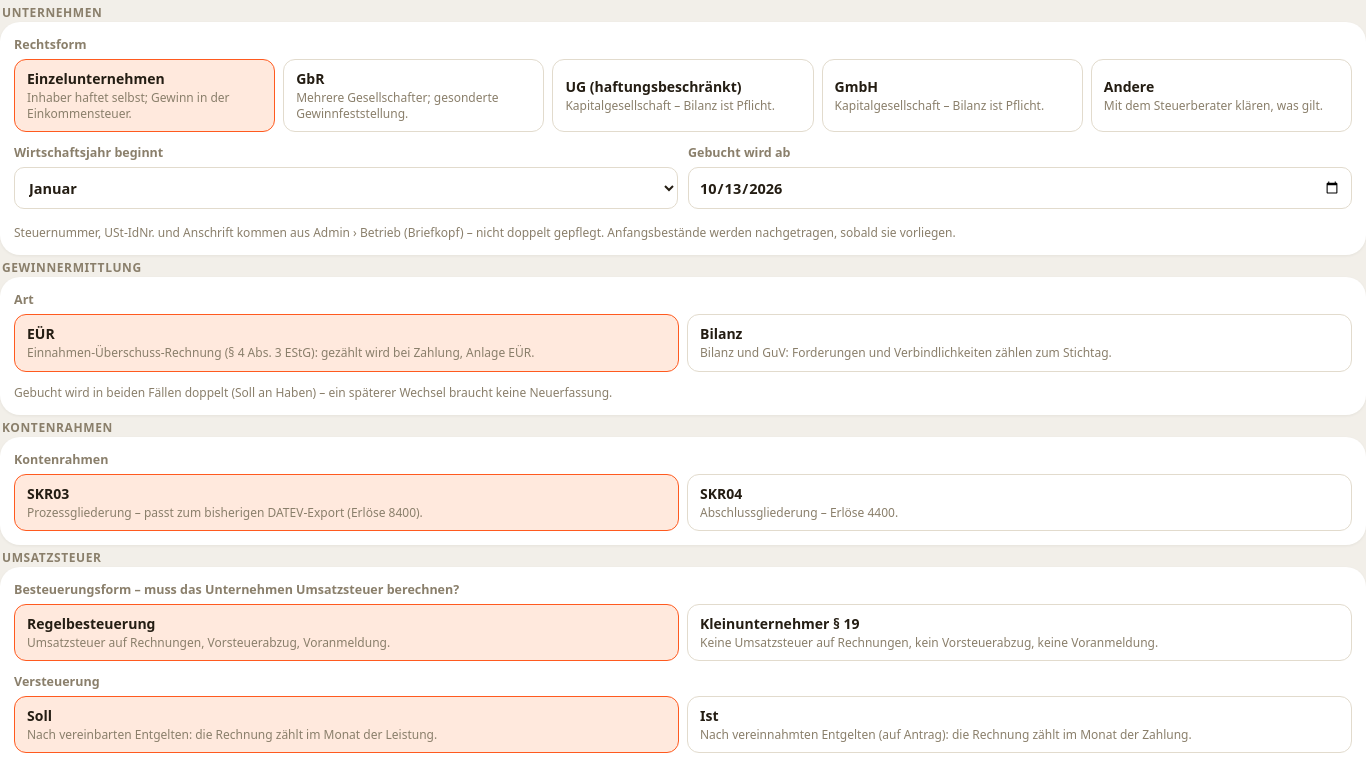
Scenario: FinanceEinstellungen › Kleinunternehmer graut Soll/Ist und Zeitraum aus; GmbH stellt auf Bilanz
Click the radio button labelled "Kleinunternehmer § 19": [1020, 632] box x1=687 y1=604 x2=1352 y2=661
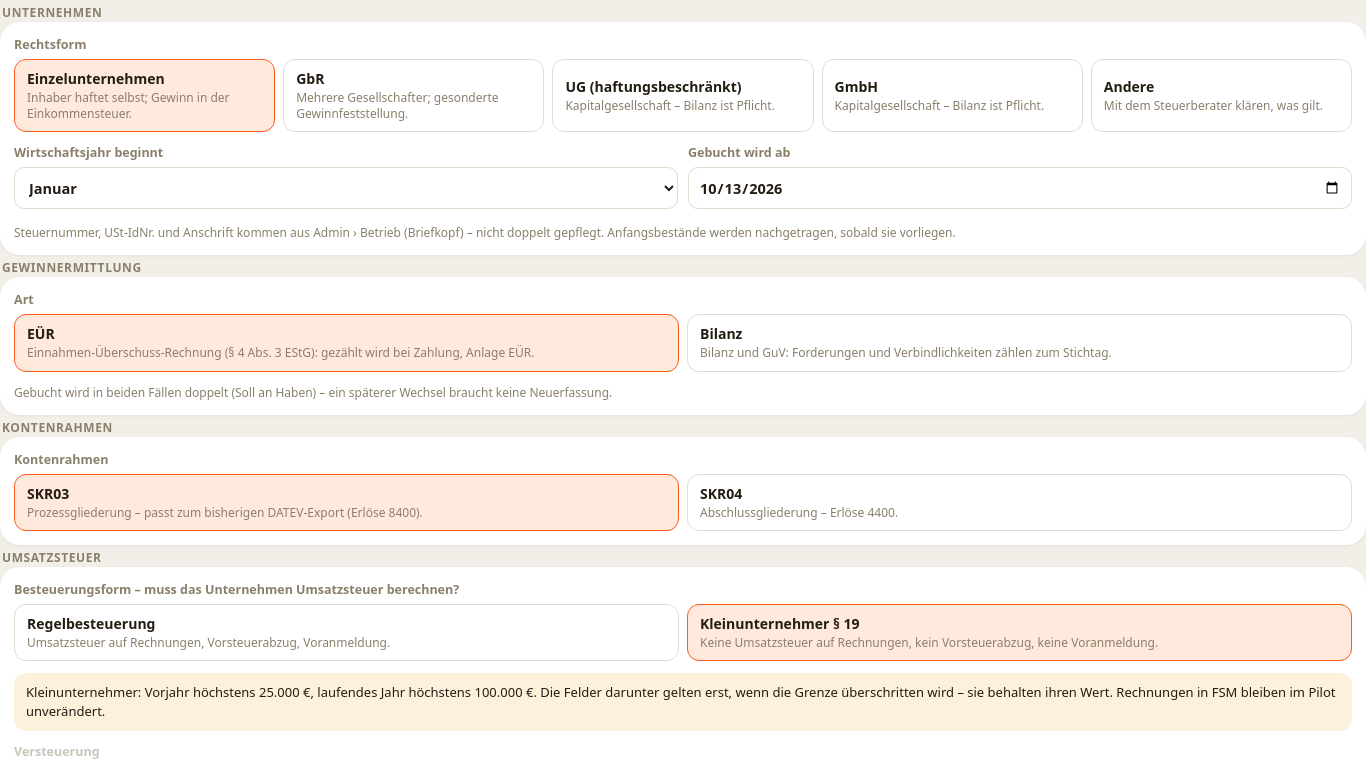
Click the radio button labelled "GmbH Kapitalgesellschaft – Bilanz ist Pflicht.": [952, 96] box x1=822 y1=59 x2=1083 y2=132
(page scrolled)
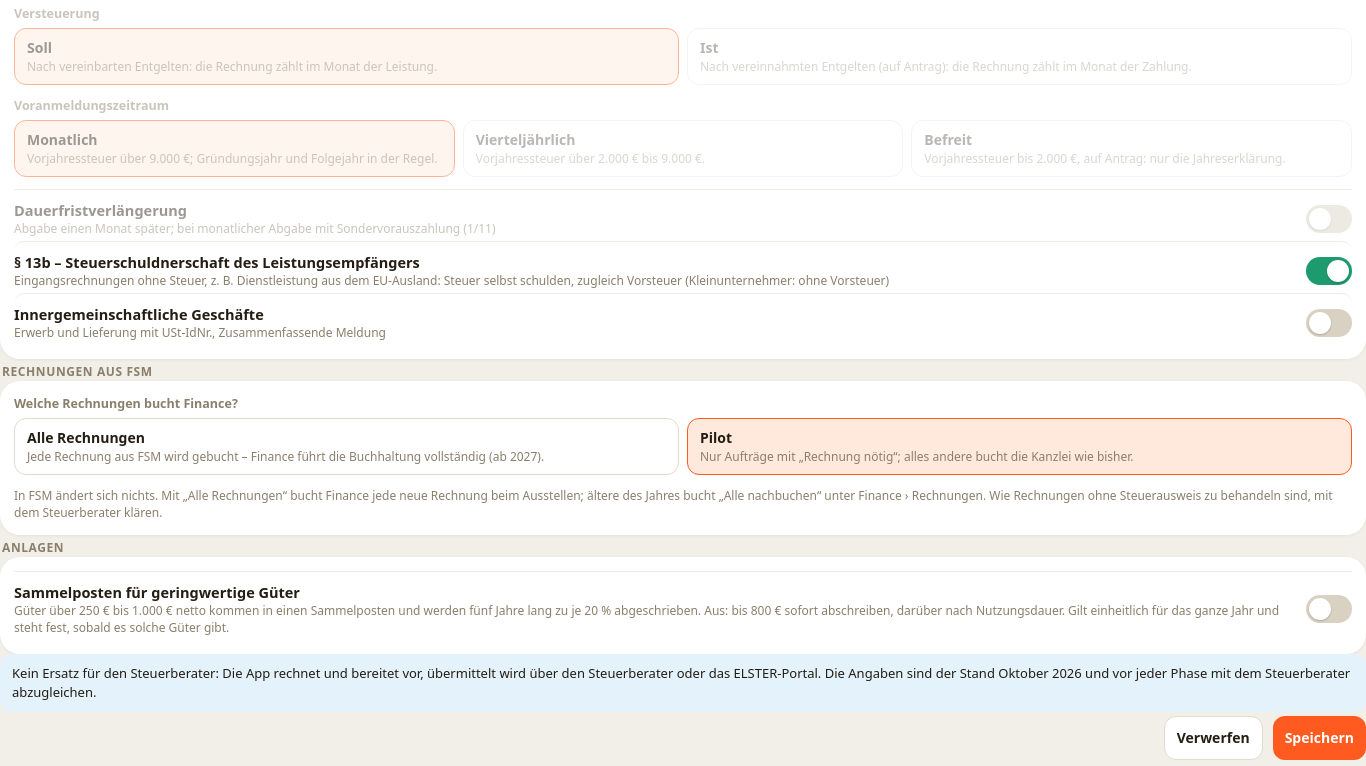
Expected: the button "Speichern" is enabled
Click the button "Speichern": [1319, 738] box x1=1273 y1=716 x2=1365 y2=760
(page scrolled)
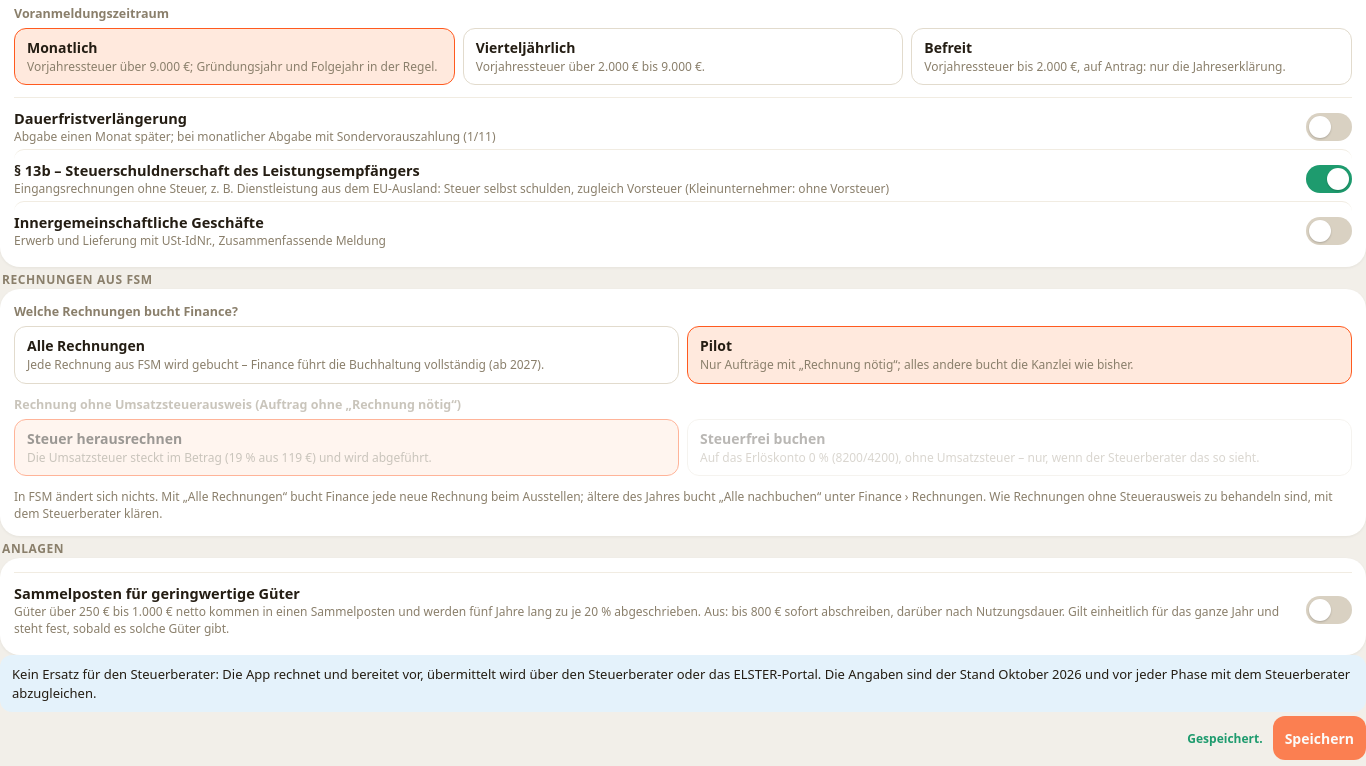
Expected: the text "Gespeichert." is shown, x1=1187 y1=730 x2=1263 y2=747
